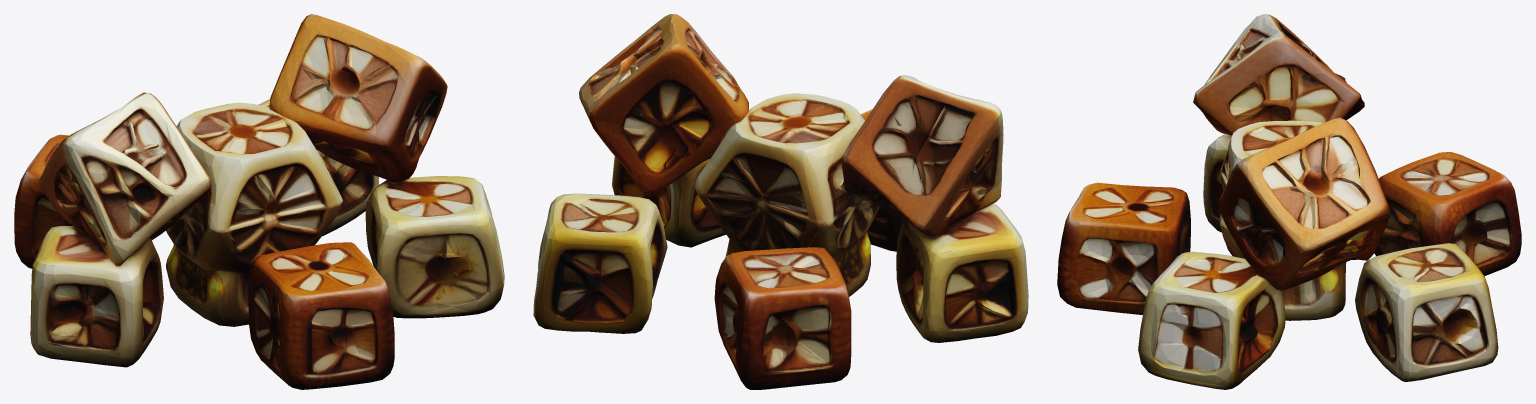
The model's file is wood-and-bone-dice-futuristic.jpeg.glb.
3 renders of one model, left to right at view 1: azimuth 30°, elevation 25°; view 2: azimuth 150°, elevation 25°; view 3: azimuth 270°, elevation 25°, orthographic. The views are drawn at different scales.
Visible parts, largest first — view 1: world; view 2: world; view 3: world.
Part boxes in pixels (box(x1,y1,x2,y2)): world: box(14, 14, 504, 389); world: box(533, 14, 1028, 389); world: box(1057, 14, 1521, 389).
Size of the model in its own units: 0.9981 by 0.5274 by 0.9847.
Materials: 1 (1 with a texture image).
